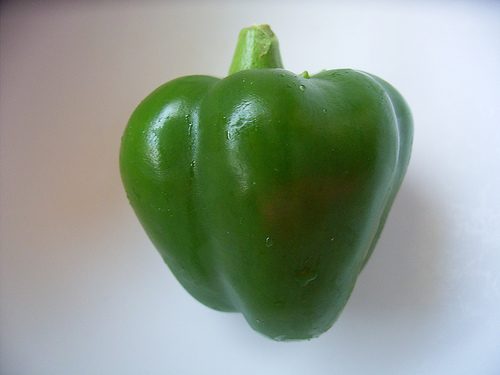capsicum: (119, 26, 414, 340)
